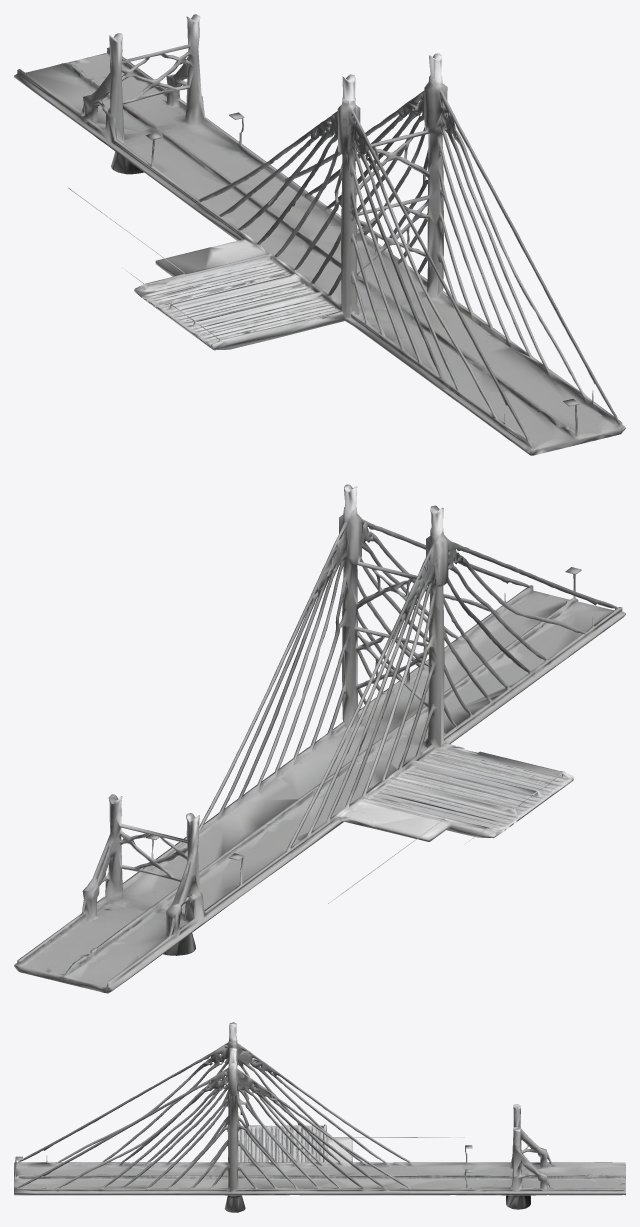
The model's file is MandelaBridge.glb.
The picture shows the model from 3 angles, top to bottom: view 1: azimuth 30°, elevation 25°; view 2: azimuth 150°, elevation 25°; view 3: azimuth 270°, elevation 25°; orthographic projection. The views are drawn at different scales.
Parts seen in each view (by area): view 1: node_0; view 2: node_0; view 3: node_0.
Boxes of the visible parts, box(x1,y1,x2,y2) form: node_0: box(14, 14, 625, 455); node_0: box(14, 484, 625, 993); node_0: box(14, 1022, 625, 1212).
Size of the model in its own units: 0.2962 by 0.3387 by 1.14.
Materials: 1 (1 with a texture image).
